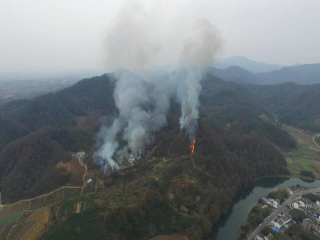smoke: (94, 2, 221, 181)
